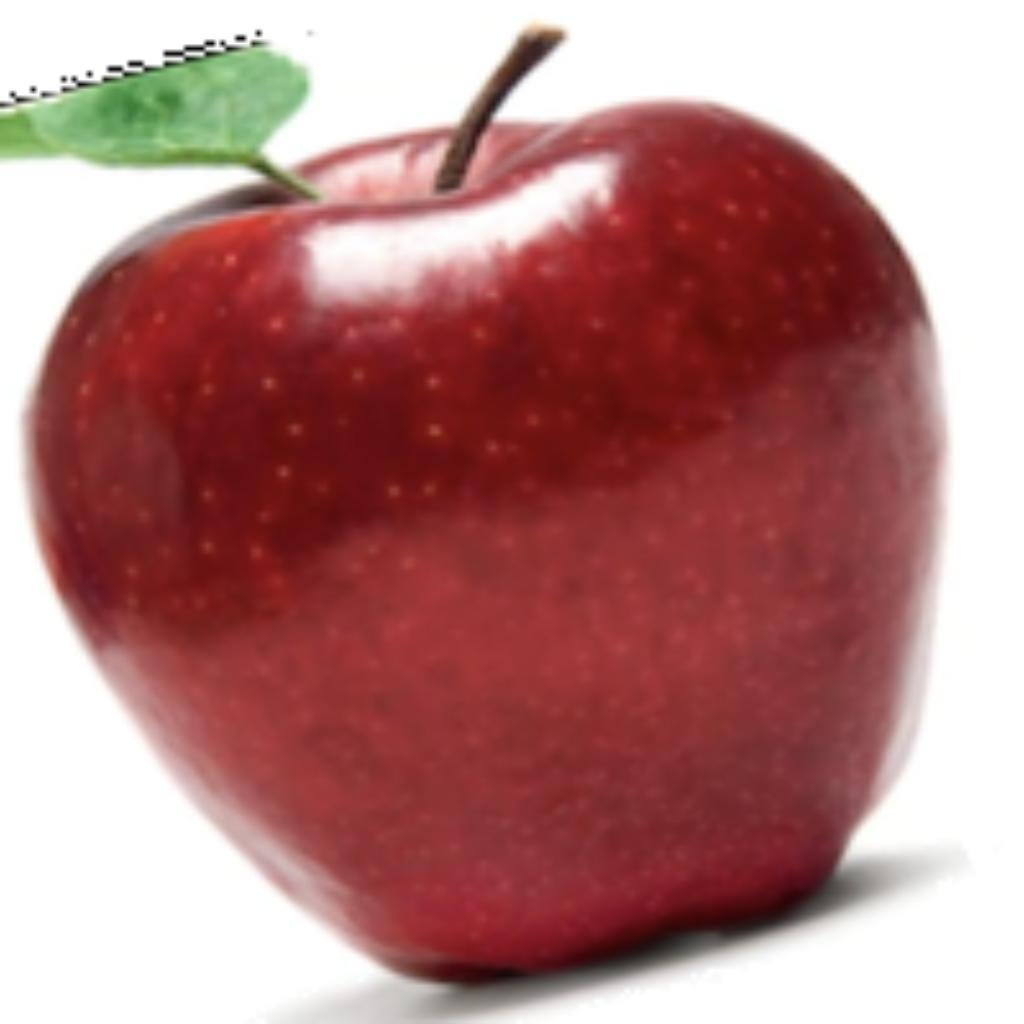apple: (10, 15, 973, 1019)
